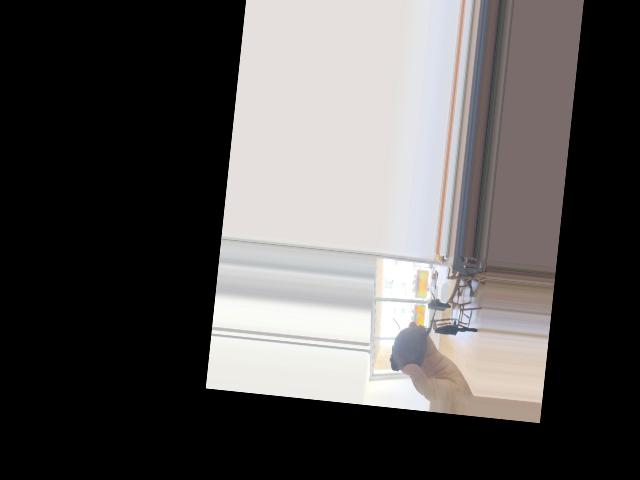beet: (388, 287, 438, 374)
